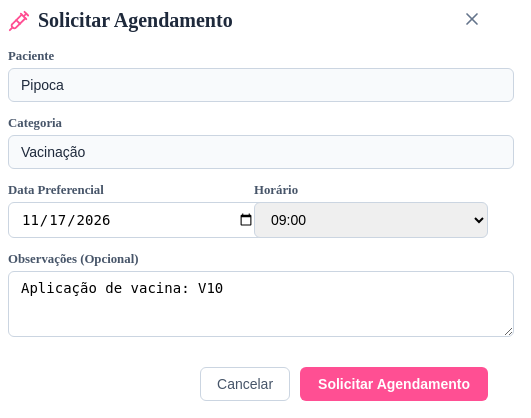
Test: RequestAppointmentModal — Solicitação de Agendamento pelo Tutor (EVO-06) › deve submeter a solicitação de agendamento com os dados preenchidos
This screenshot has width=531, height=418.
Click the button "Solicitar Agendamento" at (394, 384), box [300, 367, 488, 401]
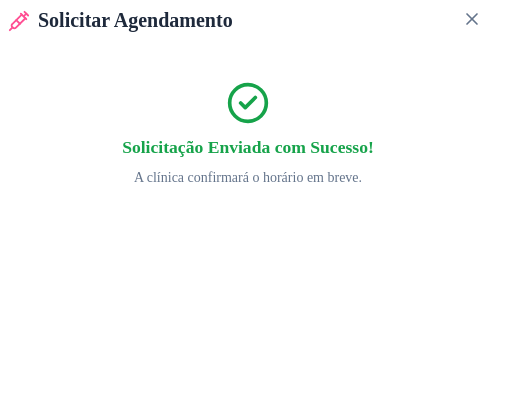
Check: the element with test id "request-success" is shown, box [122, 81, 374, 185]
